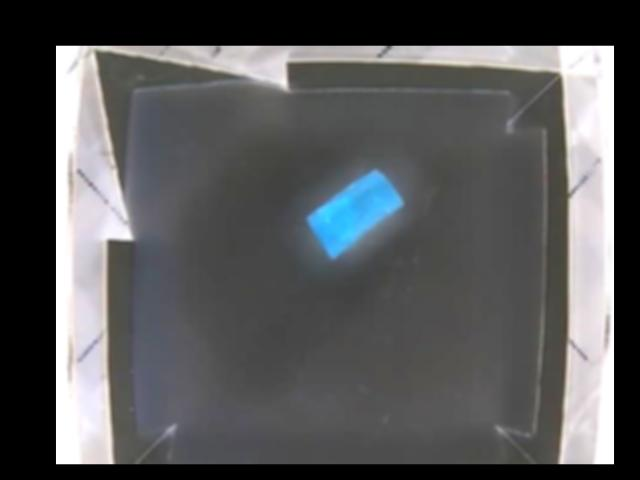Carrot: (307, 166, 405, 258)
